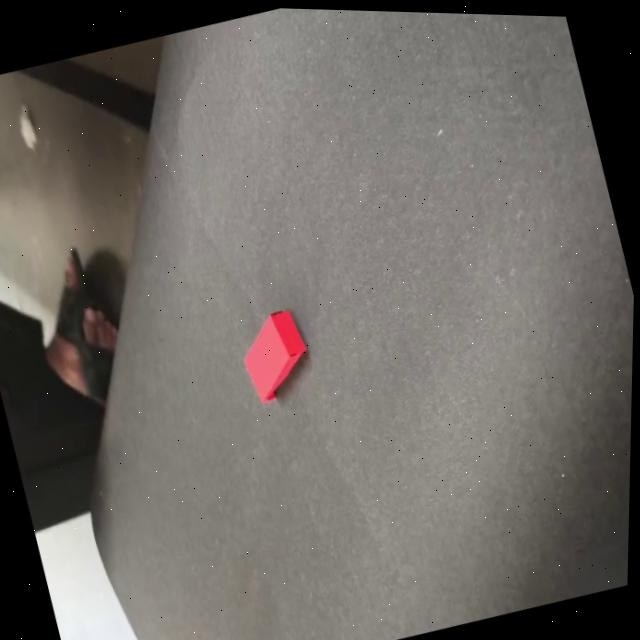red block: (229, 303, 318, 407)
